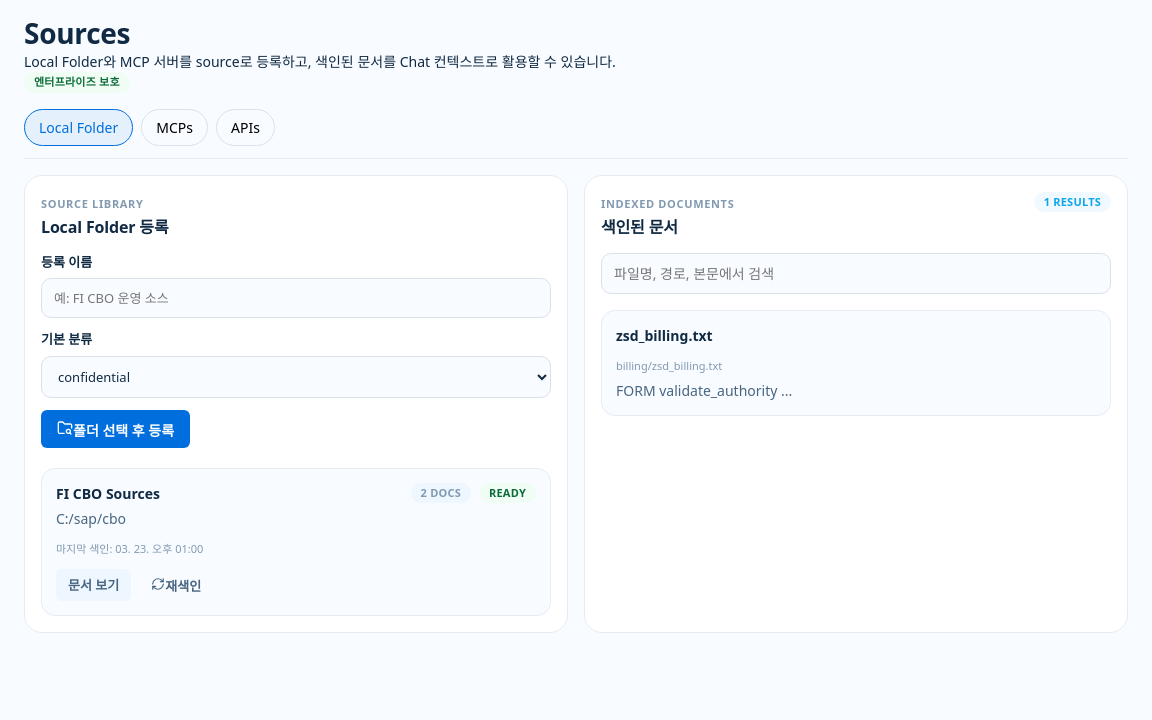
Scenario: SourcesPage › 문서 카드 클릭 시 미리보기 패널을 표시한다
Click the text "zsd_billing.txt": click(664, 335) [616,324,713,346]
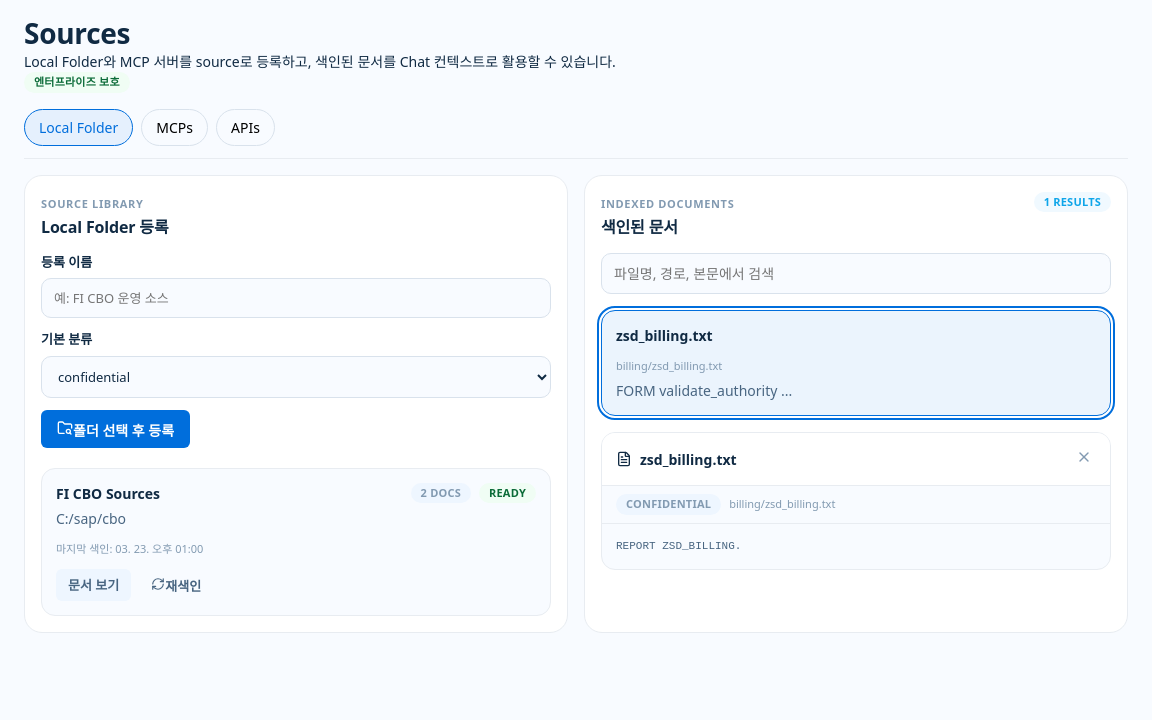
Now the text "REPORT ZSD_BILLING." is shown, box [616,540,741,552]
